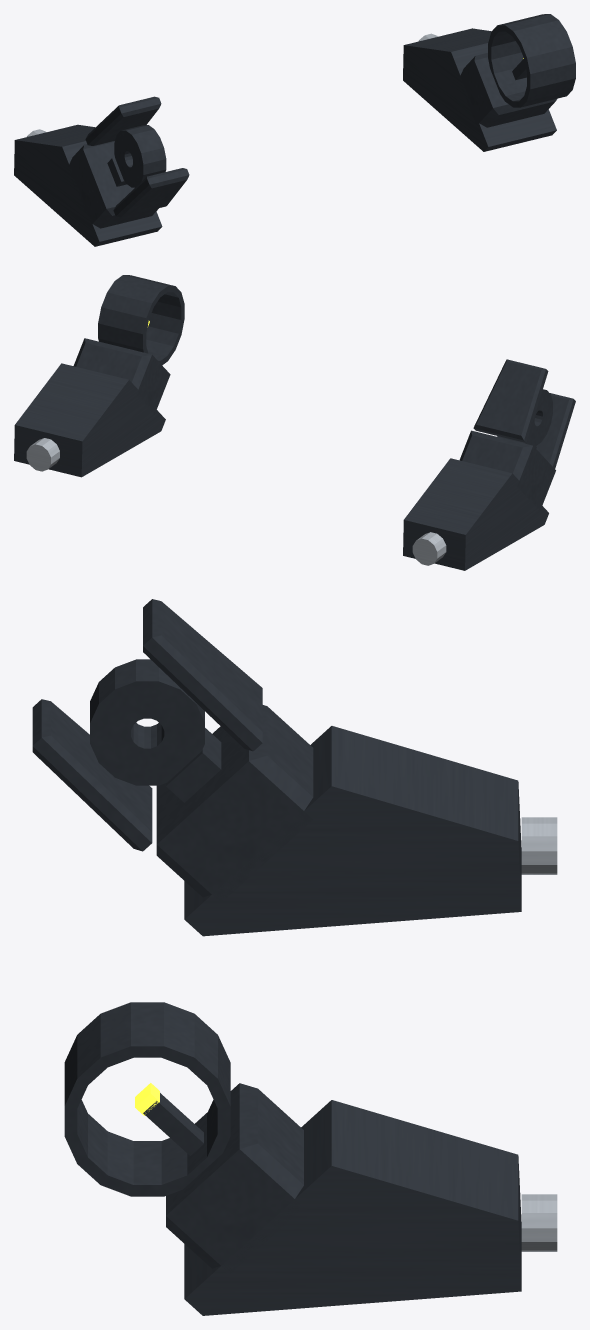
File: sight_iron_canted_v2.glb
3 views of the same model, one above another, from view 1: azimuth 30°, elevation 25°; view 2: azimuth 150°, elevation 25°; view 3: azimuth 270°, elevation 25° (orthographic). The views are drawn at different scales.
Visible parts, largest first — view 1: sight_iron_canted_mesh; view 2: sight_iron_canted_mesh; view 3: sight_iron_canted_mesh.
Part boxes in pixels (x1=…): sight_iron_canted_mesh: x1=14, y1=14, x2=575, y2=246; sight_iron_canted_mesh: x1=14, y1=275, x2=575, y2=570; sight_iron_canted_mesh: x1=32, y1=599, x2=557, y2=1315.
Size of the model in its own units: 0.16 by 0.0488 by 0.0806.
4 materials, 3 textured.
